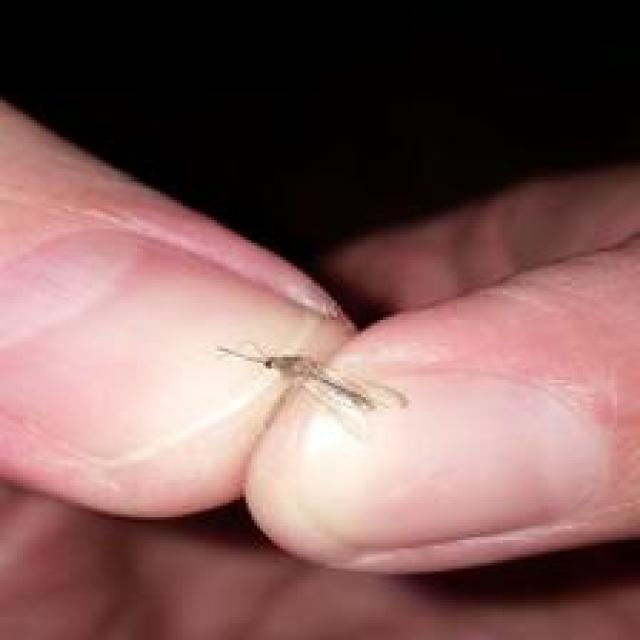Culex: (214, 338, 409, 442)
